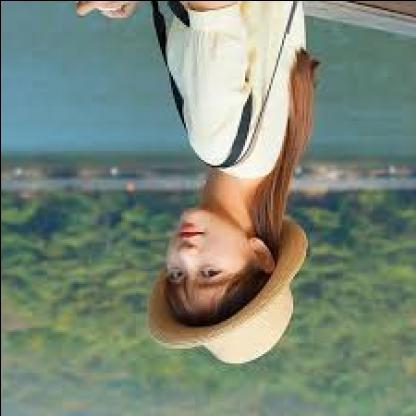hat: (142, 204, 322, 370)
